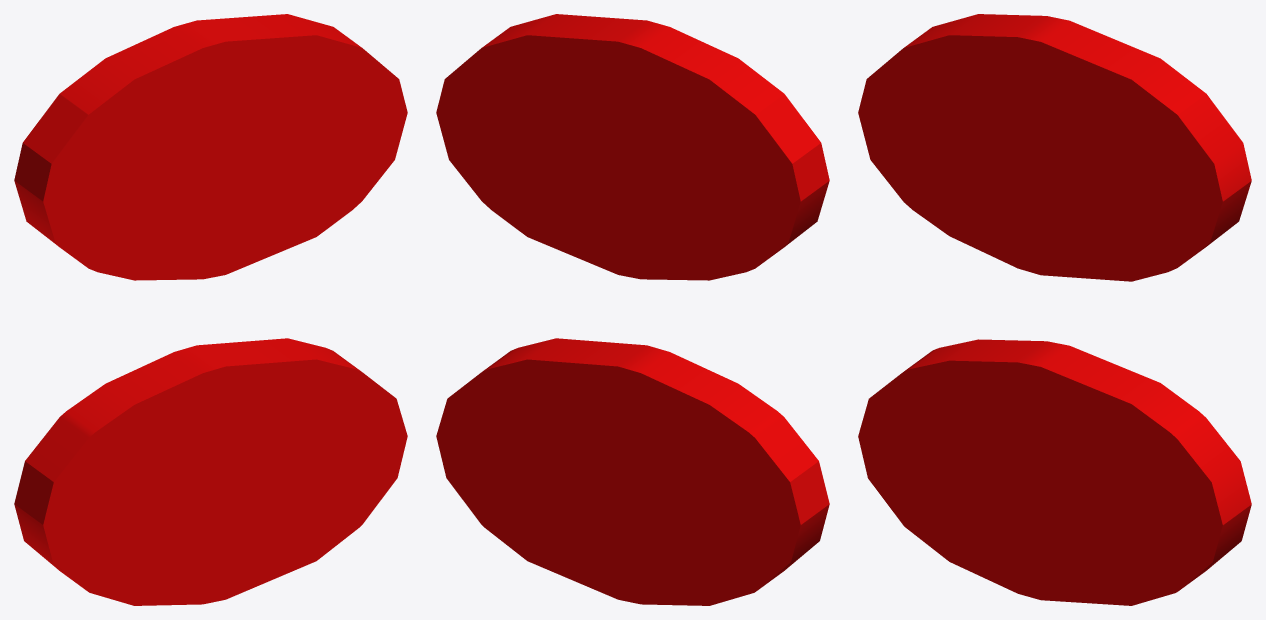
The model's file is SemiColon.fbx.
3 views of the same model, side by side, from view 1: azimuth 30°, elevation 25°; view 2: azimuth 150°, elevation 25°; view 3: azimuth 330°, elevation 25° (orthographic).
Visible parts, largest first — view 1: Trim_Char_x_1_1; view 2: Trim_Char_x_1_1; view 3: Trim_Char_x_1_1.
Boxes of the visible parts, <box> form: Trim_Char_x_1_1: <box>14,14,407,605</box>; Trim_Char_x_1_1: <box>436,14,829,605</box>; Trim_Char_x_1_1: <box>858,14,1251,605</box>.
Size of the model in its own units: 0.2888 by 0.4225 by 0.0397.
